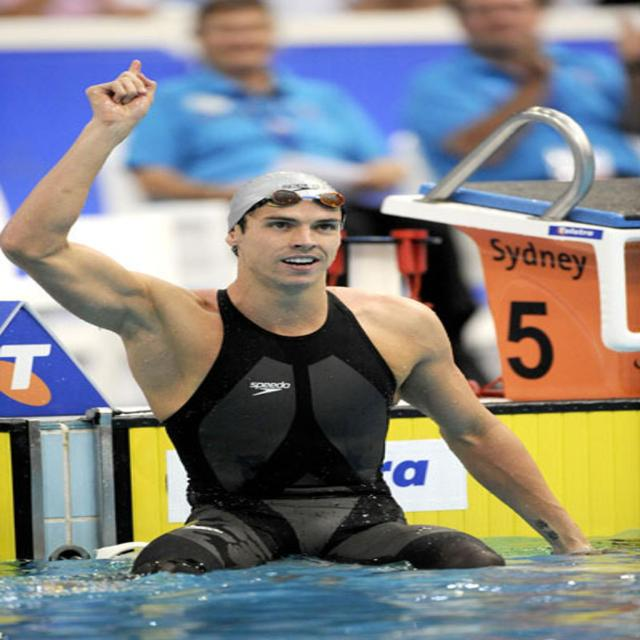Face: (231, 197, 357, 289)
